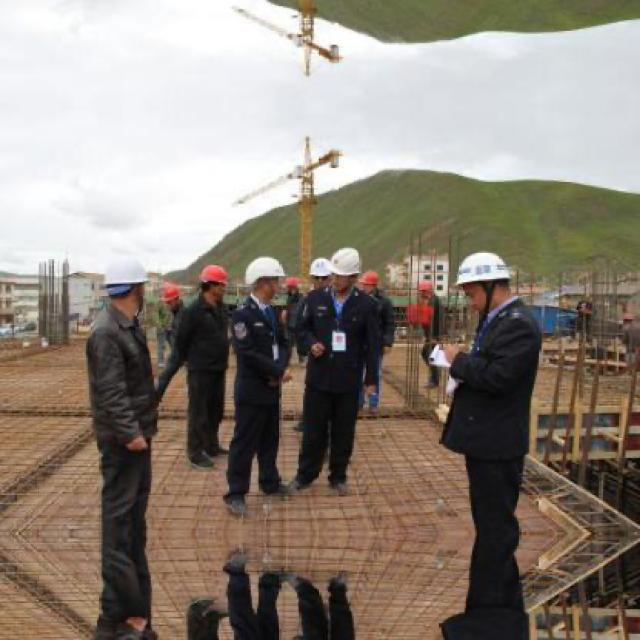con casco: (322, 210, 388, 294), (457, 238, 530, 310), (96, 251, 161, 329), (238, 245, 303, 291)
